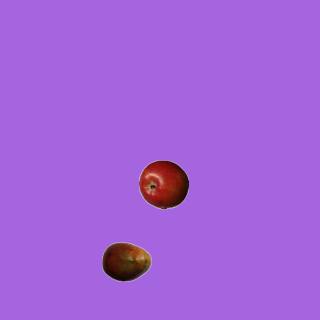Apple Braeburn: (138, 159, 188, 209)
Mango Red: (101, 236, 151, 286)
